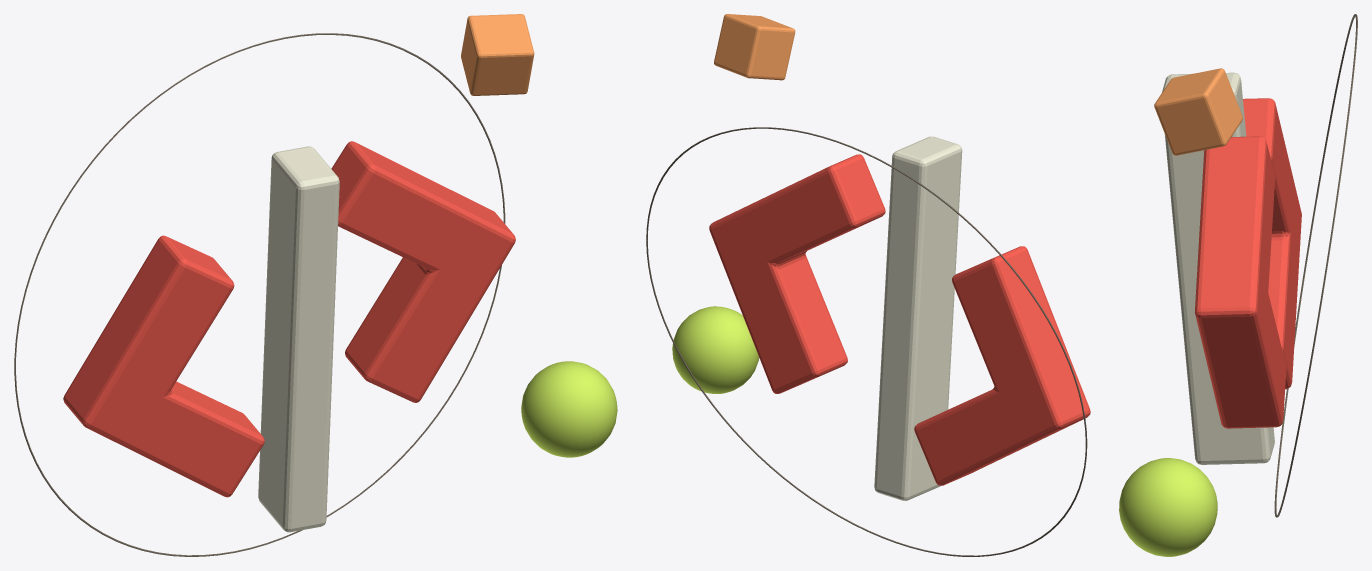
The model's file is code-sculpture.glb.
3 views of the same model, side by side, from view 1: azimuth 30°, elevation 25°; view 2: azimuth 150°, elevation 25°; view 3: azimuth 270°, elevation 25° (orthographic). The views are drawn at different scales.
Visible parts, largest first — view 1: LeftBracket, RightBracket, Slash, SatelliteSphere, SatelliteCube, Orbit; view 2: Slash, RightBracket, LeftBracket, SatelliteSphere, SatelliteCube, Orbit; view 3: RightBracket, Slash, SatelliteSphere, LeftBracket, SatelliteCube, Orbit.
Part boxes in pixels (left/top/right/bottom): LeftBracket: left=63, top=235, right=264, bottom=497; RightBracket: left=331, top=141, right=515, bottom=402; Slash: left=258, top=146, right=339, bottom=532; SatelliteSphere: left=521, top=361, right=617, bottom=457; SatelliteCube: left=461, top=14, right=534, bottom=95; Orbit: left=14, top=33, right=505, bottom=556; Slash: left=874, top=136, right=962, bottom=500; RightBracket: left=709, top=154, right=885, bottom=393; LeftBracket: left=914, top=246, right=1090, bottom=485; SatelliteSphere: left=672, top=306, right=759, bottom=393; SatelliteCube: left=714, top=14, right=795, bottom=80; Orbit: left=646, top=127, right=1087, bottom=556; RightBracket: left=1195, top=136, right=1286, bottom=428; Slash: left=1162, top=72, right=1274, bottom=464; SatelliteSphere: left=1119, top=458, right=1217, bottom=556; LeftBracket: left=1243, top=98, right=1301, bottom=388; SatelliteCube: left=1154, top=68, right=1242, bottom=155; Orbit: left=1274, top=14, right=1357, bottom=517.
Bounding box in the file's own units: 5.5 × 5.09 × 2.12.
